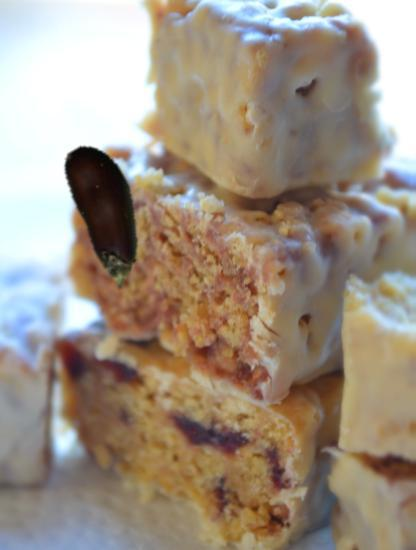Eggplant: (33, 138, 183, 288)
